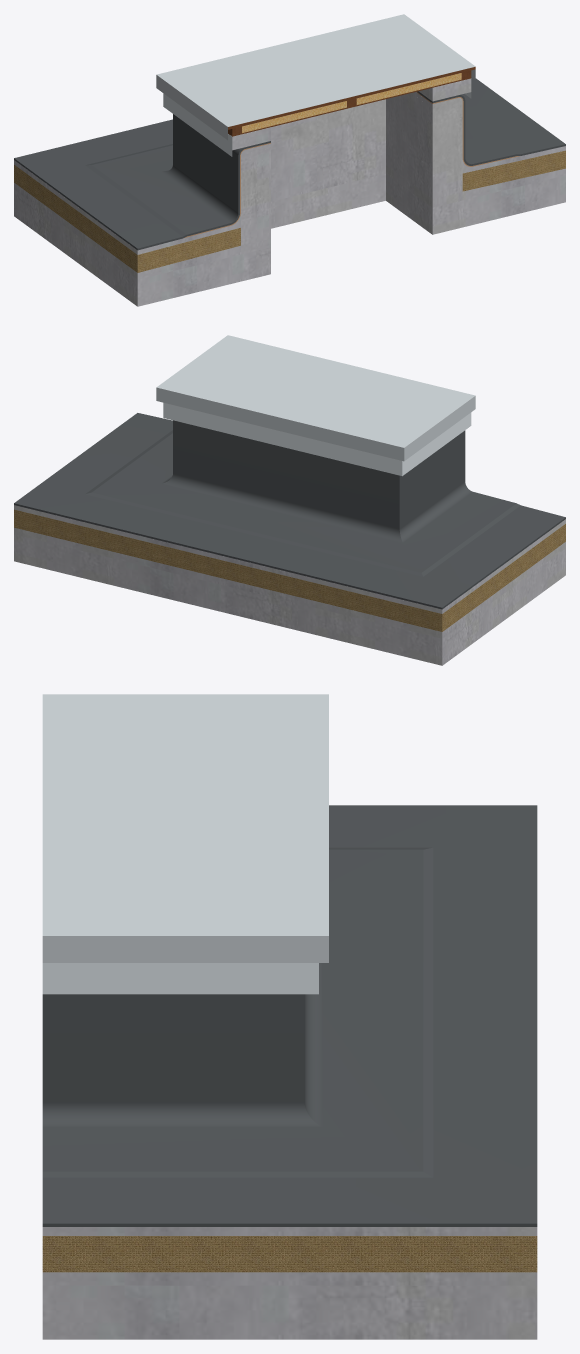
The model's file is roof-access-hatch.glb.
3 renders of one model, top to bottom at view 1: azimuth 30°, elevation 25°; view 2: azimuth 150°, elevation 25°; view 3: azimuth 270°, elevation 25°, orthographic. The views are drawn at different scales.
Parts seen in each view (by area): view 1: 第二道SBS防水卷材, 人孔盖, 检修口混凝土井壁, 屋面结构板, 屋面保温层, 屋面找坡层, 水泥砂浆找平层, 井壁外侧及顶面找平砂浆, 混凝土压顶圈, 镀锌薄钢板盖缝件, 第一道SBS防水卷材, 附加防水卷材; view 2: 第二道SBS防水卷材, 人孔盖, 屋面结构板, 屋面保温层, 镀锌薄钢板盖缝件, 屋面找坡层, 水泥砂浆找平层, 第一道SBS防水卷材; view 3: 第二道SBS防水卷材, 人孔盖, 屋面结构板, 屋面保温层, 镀锌薄钢板盖缝件, 屋面找坡层, 水泥砂浆找平层, 第一道SBS防水卷材.
Boxes of the visible parts, x1,y1,x2,y2 form: 第二道SBS防水卷材: (14,77,565,249); 人孔盖: (156,14,475,140); 检修口混凝土井壁: (245,93,458,253); 屋面结构板: (14,174,565,306); 屋面保温层: (14,150,565,272); 屋面找坡层: (14,168,565,279); 水泥砂浆找平层: (14,146,565,254); 井壁外侧及顶面找平砂浆: (241,92,462,254); 混凝土压顶圈: (232,78,471,150); 镀锌薄钢板盖缝件: (163,79,471,156); 第一道SBS防水卷材: (14,91,565,250); 附加防水卷材: (184,92,519,237); 第二道SBS防水卷材: (14,413,565,608); 人孔盖: (156,335,475,461); 屋面结构板: (14,534,565,665); 屋面保温层: (14,509,565,631); 镀锌薄钢板盖缝件: (163,402,471,476); 屋面找坡层: (14,527,565,638); 水泥砂浆找平层: (14,505,565,613); 第一道SBS防水卷材: (14,504,565,609); 第二道SBS防水卷材: (42,805,537,1225); 人孔盖: (42,694,328,962); 屋面结构板: (42,1285,537,1339); 屋面保温层: (42,1236,537,1272); 镀锌薄钢板盖缝件: (42,963,318,994); 屋面找坡层: (42,1272,537,1285); 水泥砂浆找平层: (42,1227,537,1235); 第一道SBS防水卷材: (42,1225,537,1226).
Size of the model in its own units: 1.99 by 0.7005 by 0.9952.
Materials: 13 (9 with a texture image).
